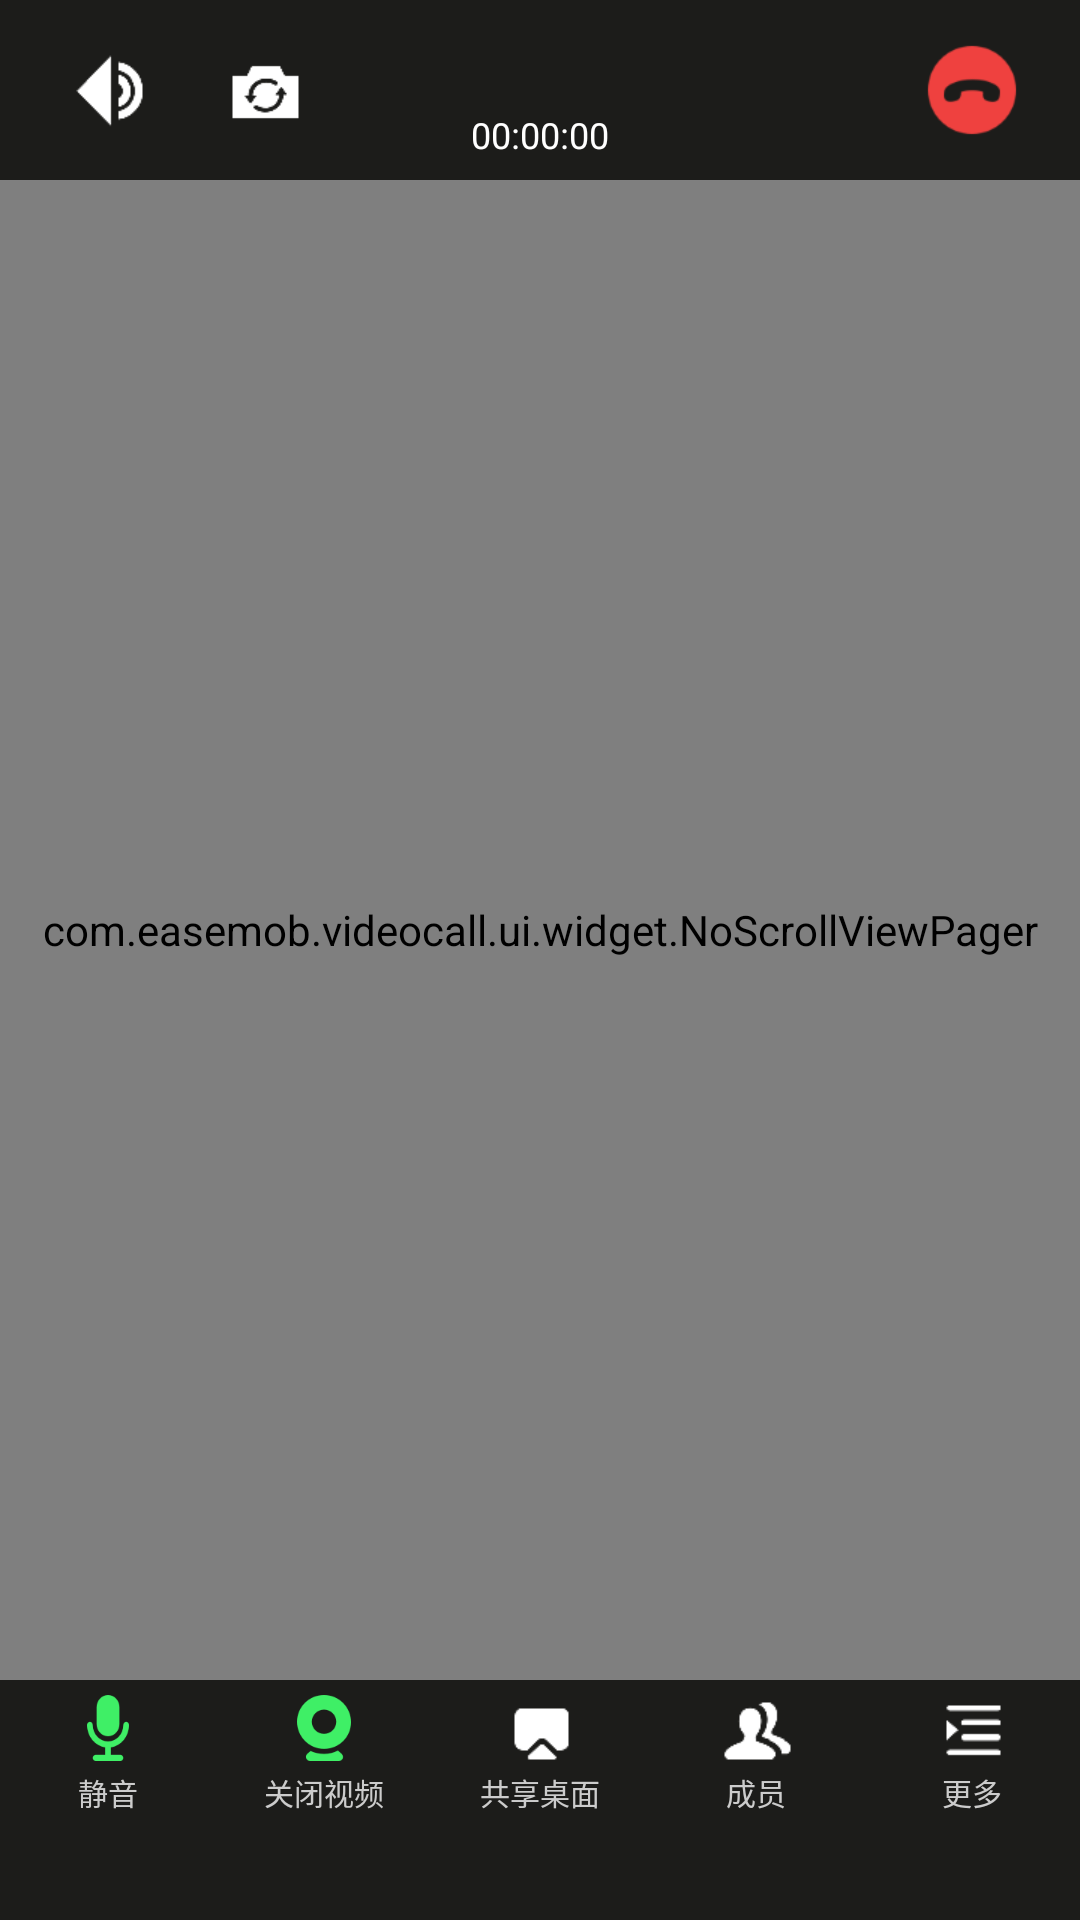

Named icons in this screenshot (1080×1920) and their centers, (x=x, y=y):
em call camera toggle: (x=265, y=92)
em call hangup: (x=972, y=90)
em call mic on: (x=108, y=1728)
em call speaker on: (x=109, y=91)
em call video on: (x=324, y=1728)
